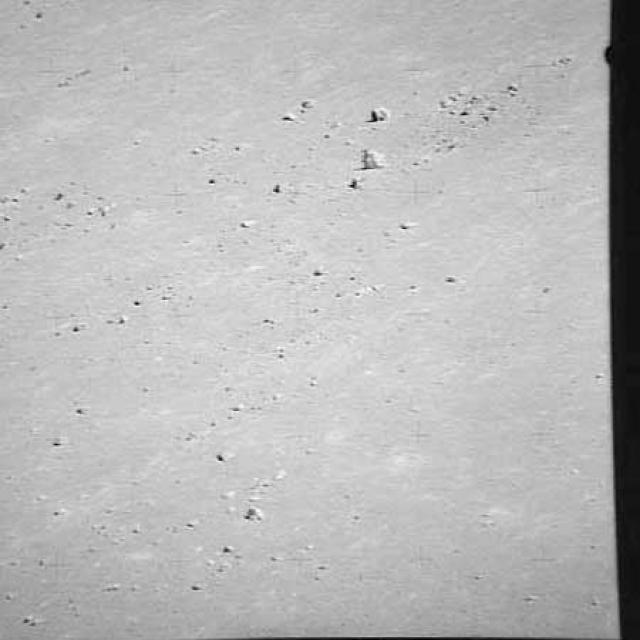rock: (351, 142, 386, 172), (358, 102, 396, 124)
